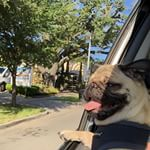puppy: (75, 58, 150, 141)
